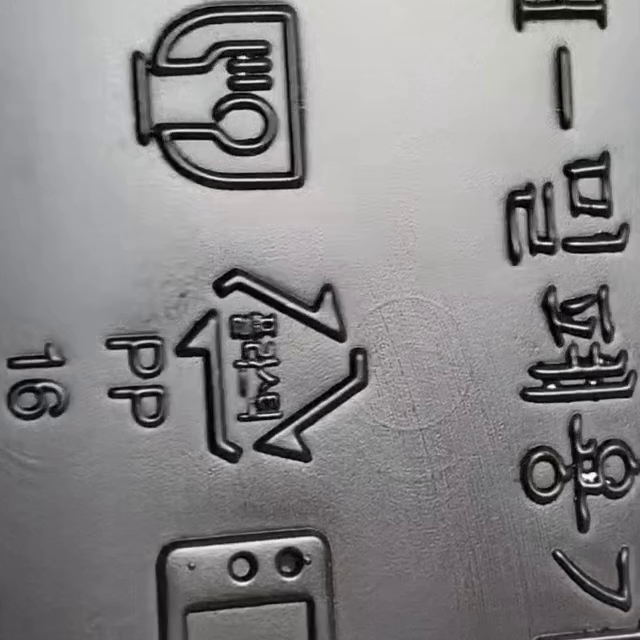Plastic: (179, 267, 372, 464)
